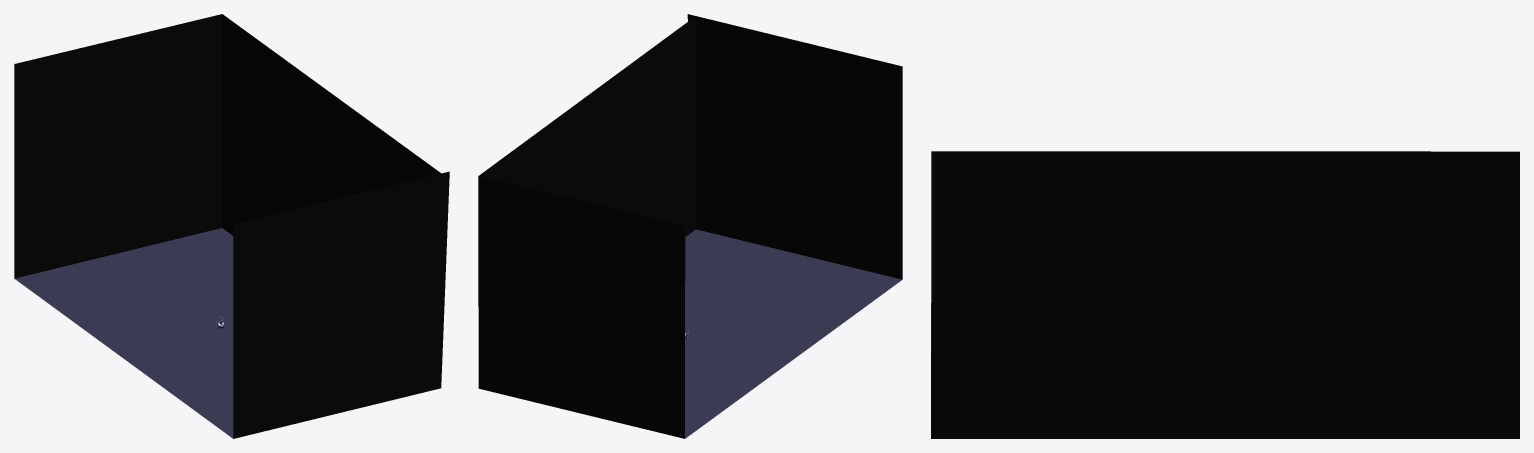
File: flor4.fbx
3 renders of one model, left to right at view 1: azimuth 30°, elevation 25°; view 2: azimuth 150°, elevation 25°; view 3: azimuth 270°, elevation 25°, orthographic. The views are drawn at different scales.
Visible parts, largest first — view 1: fundo; view 2: fundo; view 3: fundo.
Boxes of the visible parts, x1,y1,x2,y2 form: fundo: [14, 14, 449, 438]; fundo: [478, 14, 902, 438]; fundo: [931, 151, 1519, 438].
Bounding box in the file's own units: 45318 × 42938 × 79378.
